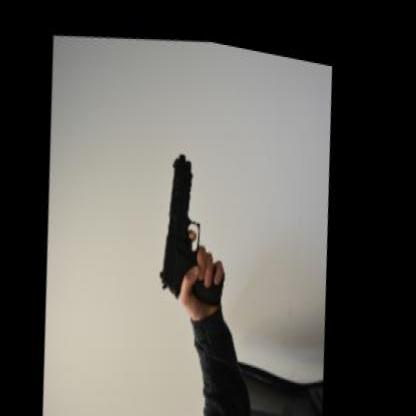pistol: (154, 133, 241, 303)
